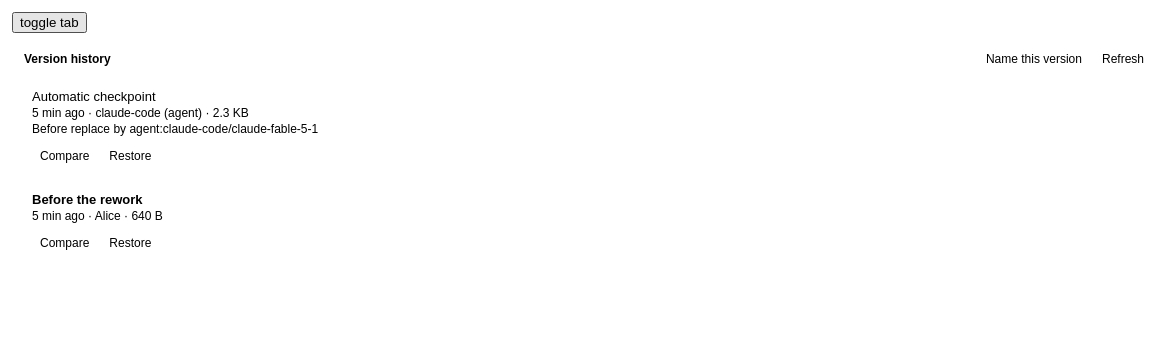
Test: HistoryPanel › says so when the comparison cannot be made and leaves the canvas unmarked
This screenshot has width=1161, height=339.
expect the text "Before the rework" is shown: met, box [32,192,142,207]
Step 1. Click the button with aria-label "Compare with Before the rework" → coordinates (65, 243), box [32,229,97,257]
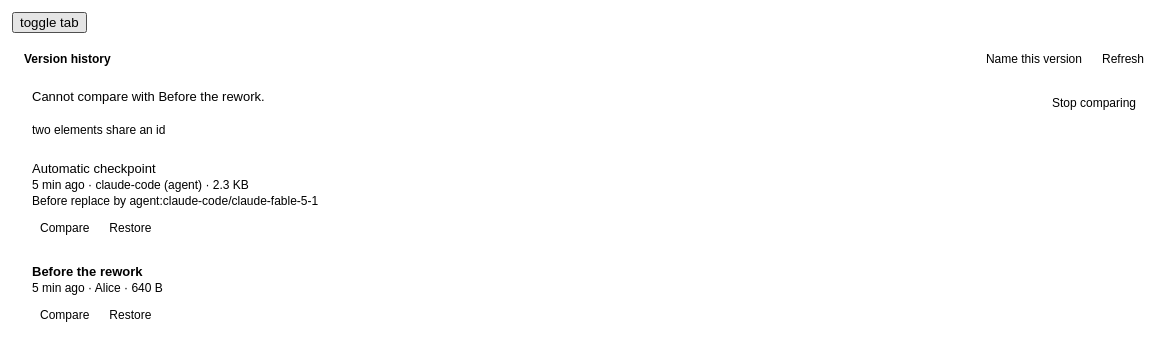
expect the message reads "two elements share an id": met, box [32,123,165,137]
